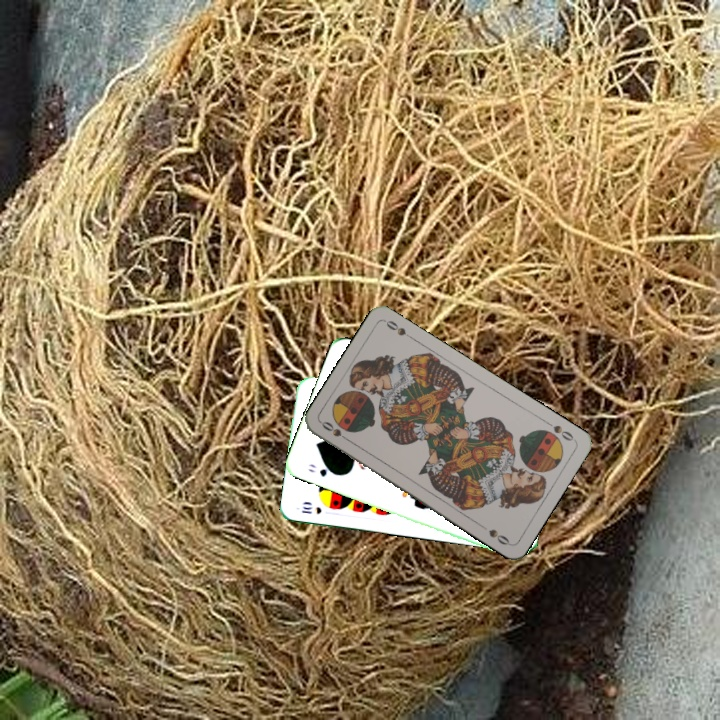GO: (304, 460, 340, 479)
S10: (297, 502, 324, 516)
SO: (317, 417, 354, 445), (541, 417, 578, 444)
